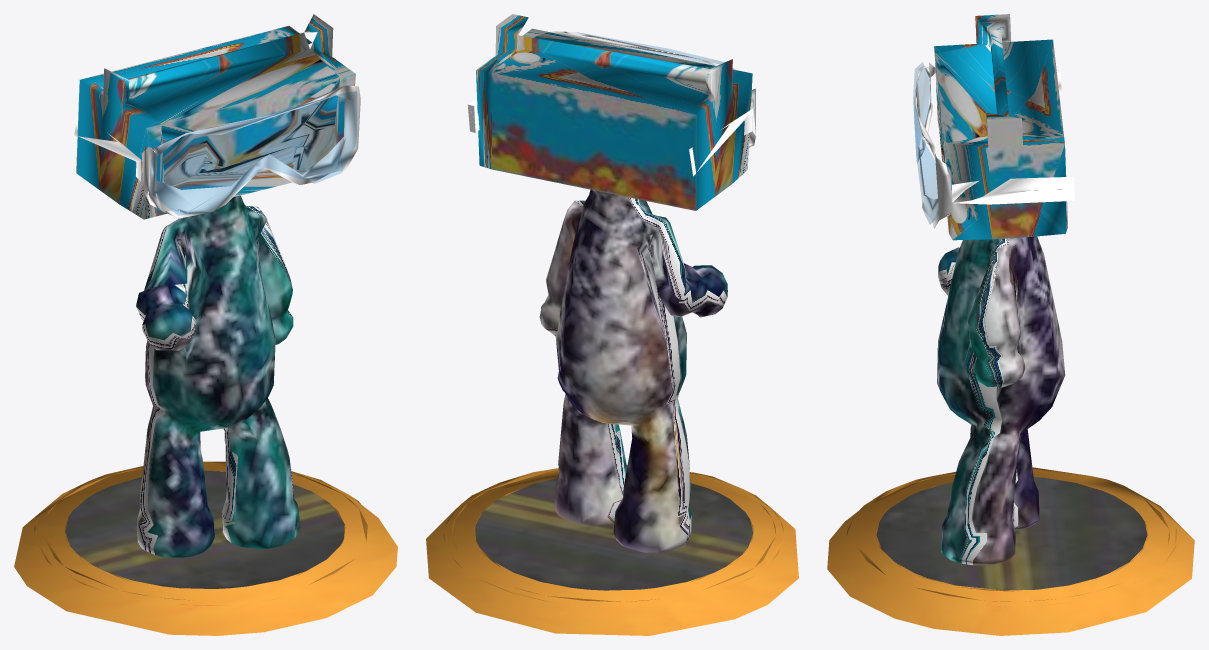
3 views of the same model, side by side, from view 1: azimuth 30°, elevation 25°; view 2: azimuth 150°, elevation 25°; view 3: azimuth 270°, elevation 25° (orthographic). The views are drawn at different scales.
Size of the model in its own units: 1.44 by 2.11 by 1.42.
Materials: 7 (4 with a texture image).
